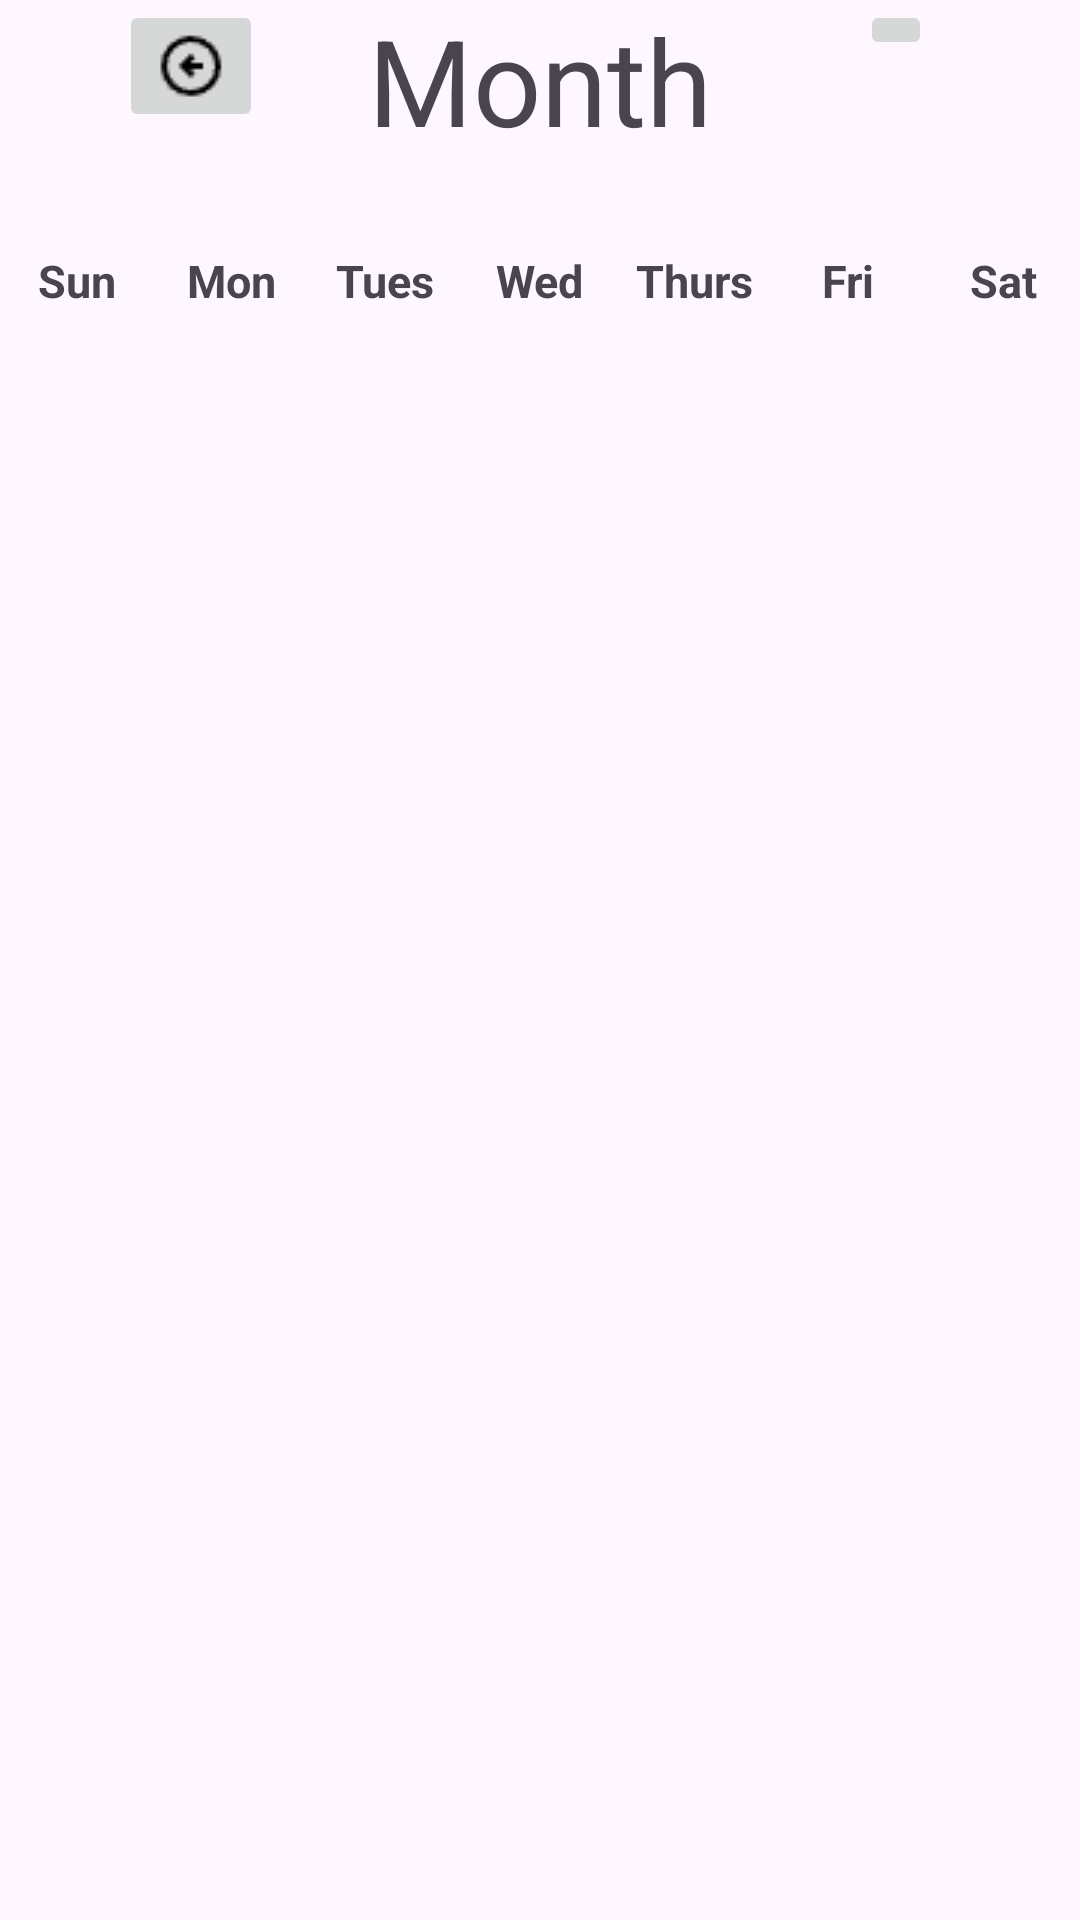

Locate icon controls on the screen. Image size 1080 × 1920, boxes as (x1, y1, x2, y2).
left arrow: (131, 18, 251, 114)
